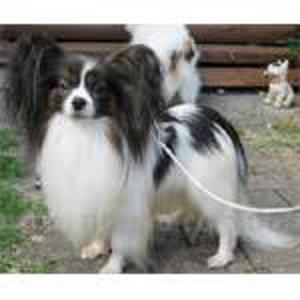yell: (6, 31, 242, 273)
